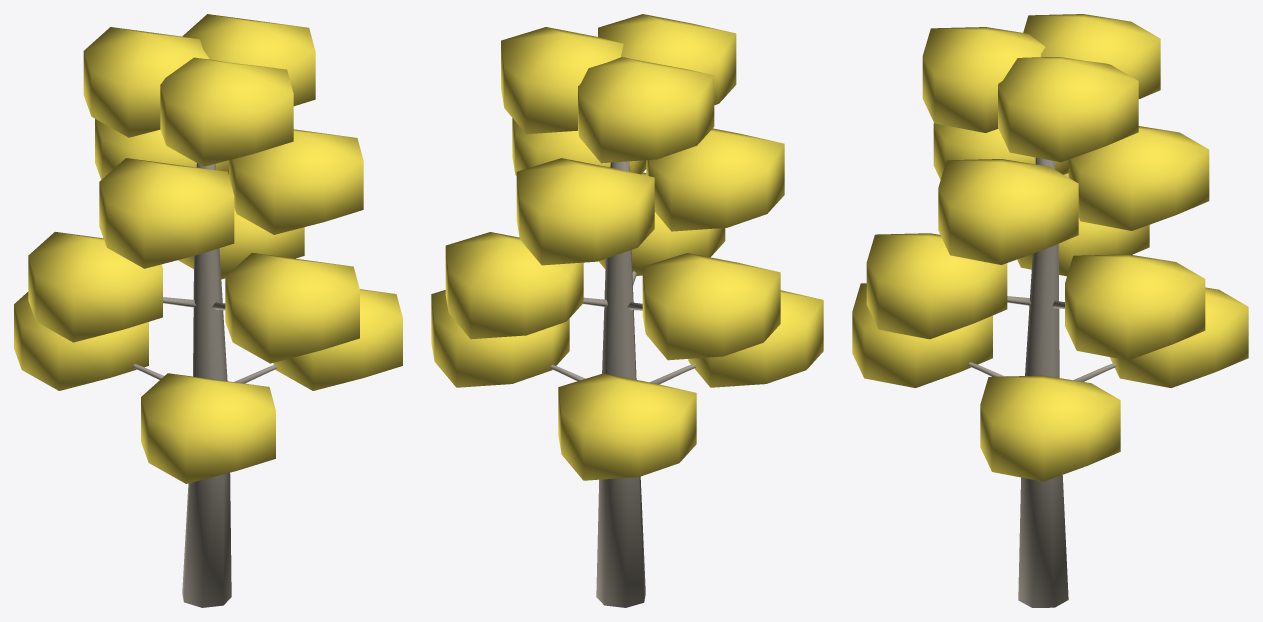
File: tree_ginkgo.glb
3 views of the same model, side by side, from view 1: azimuth 30°, elevation 25°; view 2: azimuth 150°, elevation 25°; view 3: azimuth 270°, elevation 25° (orthographic).
Visible parts, largest first — view 1: Flora_Ginkgo; view 2: Flora_Ginkgo; view 3: Flora_Ginkgo.
Boxes of the visible parts, box(x1,y1,x2,y2) form: Flora_Ginkgo: box(14, 14, 402, 607); Flora_Ginkgo: box(431, 14, 823, 607); Flora_Ginkgo: box(852, 14, 1248, 607).
Bounding box in the file's own units: 5.46 × 8.41 × 5.37.
